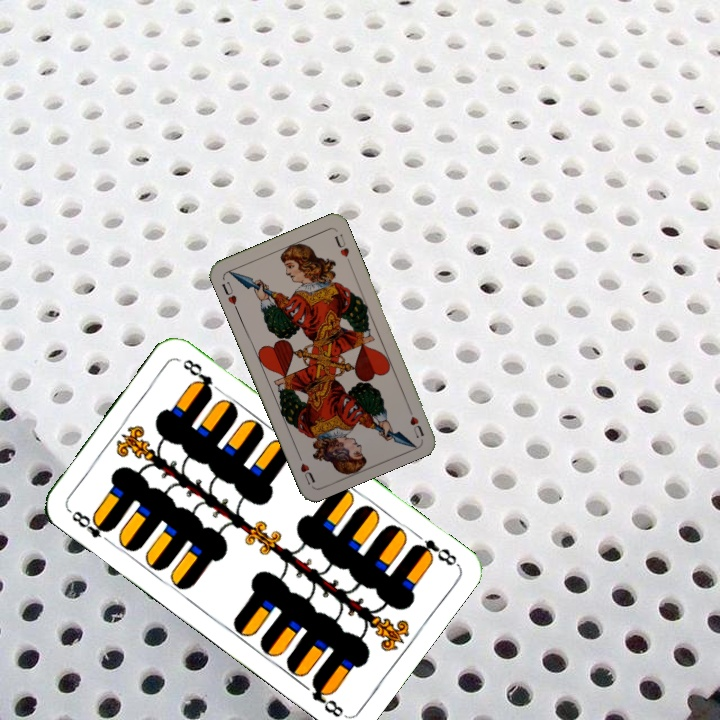E8: (67, 506, 115, 547), (408, 535, 460, 569)
HU: (403, 401, 426, 441), (217, 277, 241, 313)
